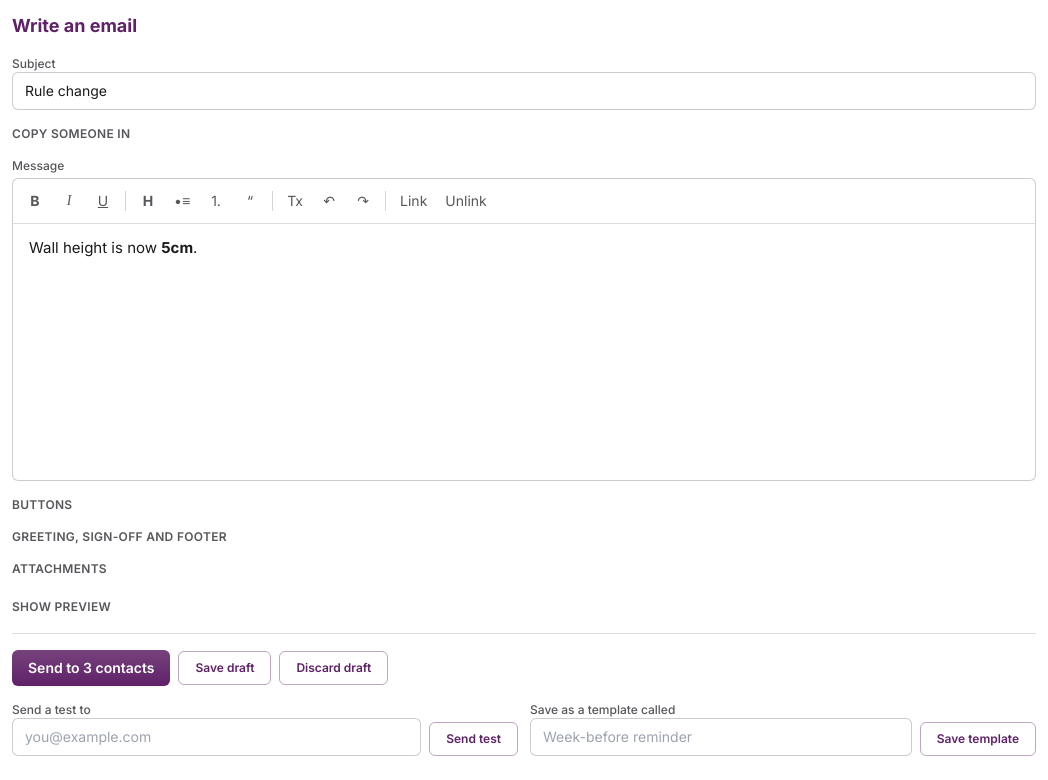
Test: the preview › shows the greeting with a real name in it, since {name} would not be sent
The width and height of the screenshot is (1048, 780).
Click the button "Show preview" at (62, 607), box x1=12 y1=599 x2=111 y2=615
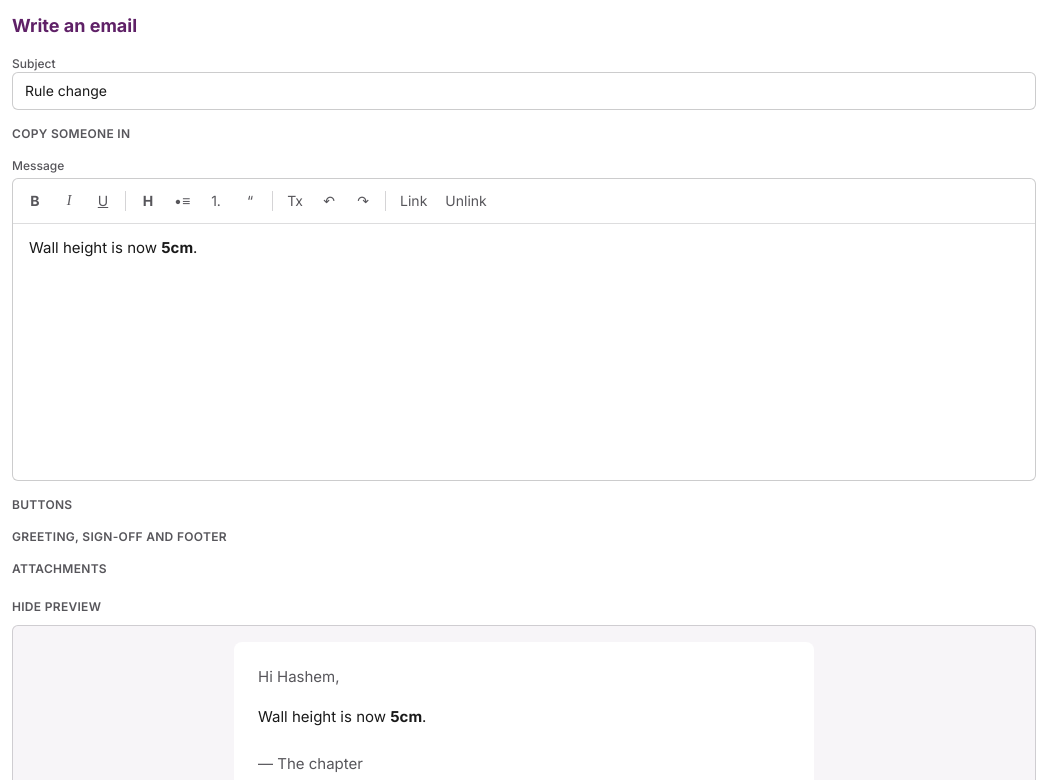
Expected: the text "Hi Hashem," is shown, x1=258 y1=667 x2=340 y2=686
